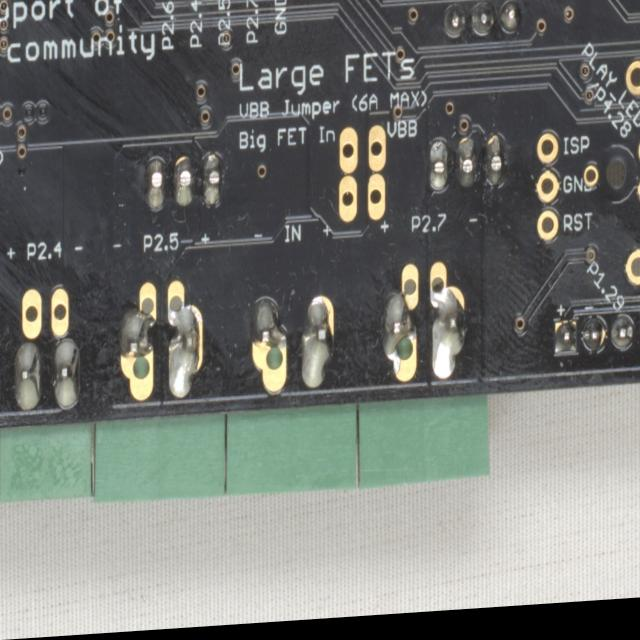connector: (337, 128, 385, 228), (534, 135, 561, 253), (17, 286, 70, 345), (623, 256, 640, 296), (624, 65, 640, 106), (636, 141, 640, 215)
pins: (116, 278, 205, 406), (382, 262, 467, 393), (249, 295, 335, 401), (142, 152, 224, 217), (13, 339, 81, 414), (426, 138, 510, 198), (551, 317, 640, 365), (439, 1, 523, 51)
test point: (583, 170, 598, 196)
